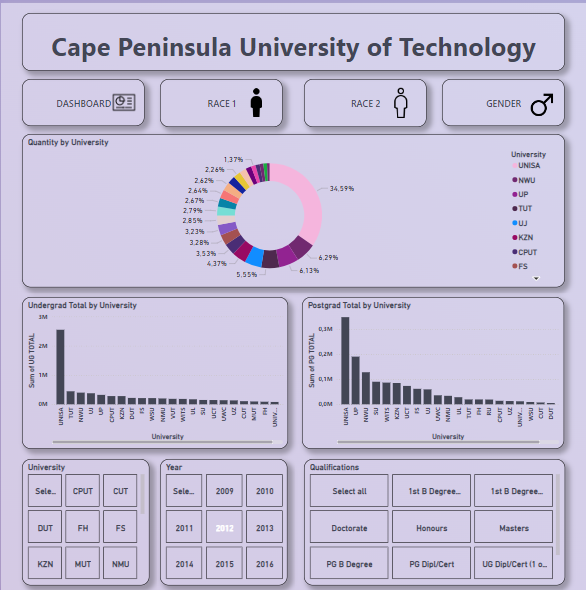

Layout of this report page (visuals, bound fields, positions):
{"tool":"powerbi","page":{"name":"University Enrolment ","canvas":[1200,1200],"ordinal":1},"visuals":[{"type":"columnChart","title":"Undergrad Total by University ","fields":{"Category":["Enrolments.University "],"Y":["Sum(Enrolments.UG TOTAL)"]},"box":[42.5,600,542.5,310],"z":0},{"type":"advancedSlicerVisual","fields":{"Values":["Enrolments.University "]},"box":[42.5,930,260,257.5],"z":1000},{"type":"columnChart","title":"Postgrad Total by University ","fields":{"Category":["Enrolments.University "],"Y":["Sum(Enrolments.PG TOTAL)"]},"box":[615,600,535,310],"z":2000},{"type":"donutChart","title":"Quantity by University ","fields":{"Category":["Enrolments.University "],"Y":["Sum(Enrolments.Quantity)"]},"box":[42.5,267.5,1107.5,312.5],"z":3000},{"type":"advancedSlicerVisual","fields":{"Values":["Enrolments.Year"]},"box":[325,930,260,257.5],"z":4000},{"type":"advancedSlicerVisual","fields":{"Values":["Enrolments.Qualifications"]},"box":[617.5,930,532.5,257.5],"z":5000},{"type":"actionButton","box":[900,156,250,96],"z":6000},{"type":"actionButton","box":[42,156,250,96],"z":7000},{"type":"actionButton","box":[617.5,155,250,97.5],"z":8000},{"type":"actionButton","box":[325,155,250,97.5],"z":9000},{"type":"cardVisual","fields":{"Data":["Min(Race.University Name )"]},"box":[42.5,20,1107.5,117.5],"z":10000},{"type":"image","box":[223.3,173.3,56.7,58.3],"z":10001},{"type":"image","box":[483.3,165,75,76.7],"z":10002},{"type":"image","box":[775,165,80,76.7],"z":10003},{"type":"image","box":[1071.7,173.3,65,68.3],"z":10004}]}

Visuals, with their boxes in screenshot pixels (x1, y1, x2, y2), scaled from the page's 1200x1200 canvas onto the 586x590 screenshot:
"Undergrad Total by University " columnChart: (left=21, top=295, right=286, bottom=447)
advancedSlicerVisual - Enrolments.University : (left=21, top=457, right=148, bottom=584)
"Postgrad Total by University " columnChart: (left=300, top=295, right=562, bottom=447)
"Quantity by University " donutChart: (left=21, top=132, right=562, bottom=285)
advancedSlicerVisual - Enrolments.Year: (left=159, top=457, right=286, bottom=584)
advancedSlicerVisual - Enrolments.Qualifications: (left=302, top=457, right=562, bottom=584)
actionButton: (left=440, top=77, right=562, bottom=124)
actionButton: (left=21, top=77, right=143, bottom=124)
actionButton: (left=302, top=76, right=424, bottom=124)
actionButton: (left=159, top=76, right=281, bottom=124)
cardVisual - Min(Race.University Name ): (left=21, top=10, right=562, bottom=68)
image: (left=109, top=85, right=137, bottom=114)
image: (left=236, top=81, right=273, bottom=119)
image: (left=378, top=81, right=418, bottom=119)
image: (left=523, top=85, right=555, bottom=119)
